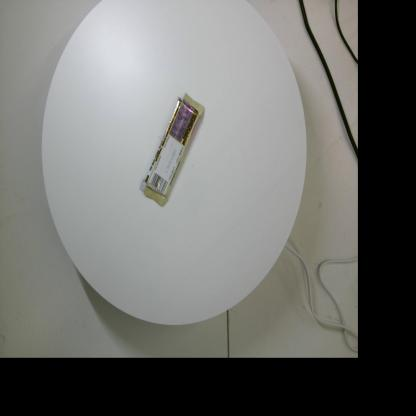Chocolate: (139, 92, 205, 207)
